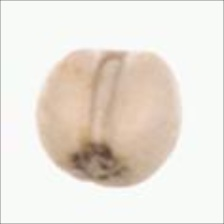L5: (82, 49, 130, 144), (65, 137, 132, 187)
L6: (30, 46, 186, 193)
